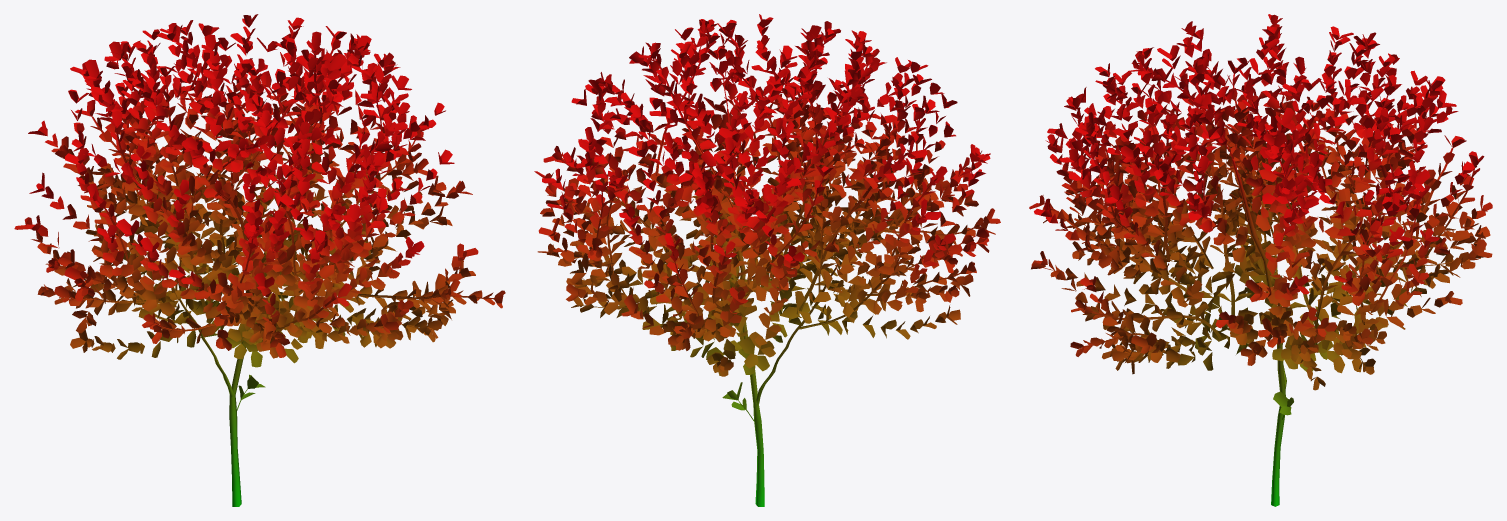
The model's file is Var3_LOD4.fbx.
3 views of the same model, side by side, from view 1: azimuth 30°, elevation 25°; view 2: azimuth 150°, elevation 25°; view 3: azimuth 270°, elevation 25° (orthographic). The views are drawn at different scales.
Parts seen in each view (by area): view 1: _c9yq_Var3_LOD4; view 2: _c9yq_Var3_LOD4; view 3: _c9yq_Var3_LOD4.
Part boxes in pixels (bbox=[...]): _c9yq_Var3_LOD4: bbox=[14, 14, 505, 506]; _c9yq_Var3_LOD4: bbox=[534, 14, 1000, 506]; _c9yq_Var3_LOD4: bbox=[1029, 14, 1492, 506].
Size of the model in its own units: 71.58 by 78.56 by 70.58.
